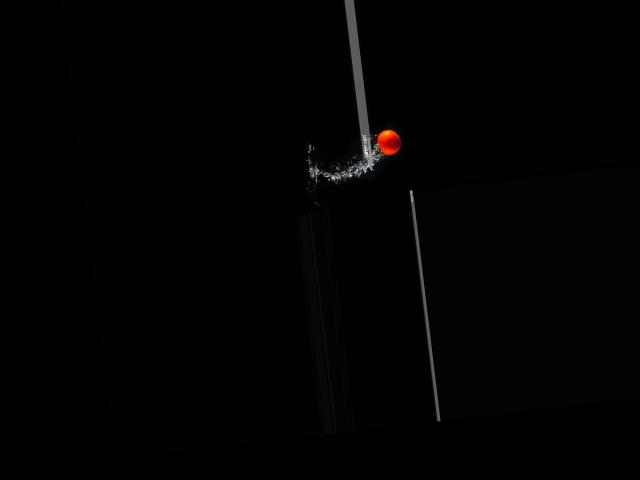tomato: (376, 128, 401, 156)
